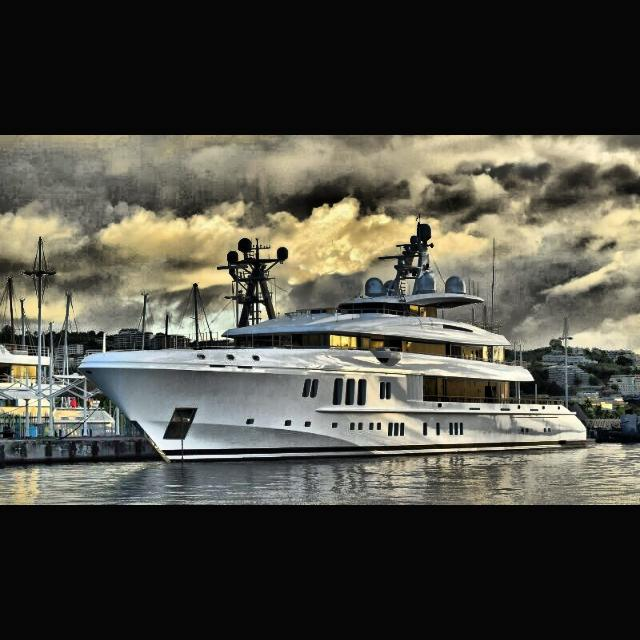yacht: (77, 221, 596, 465)
